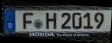character: (44, 11, 56, 30), (21, 11, 33, 29), (60, 11, 71, 29), (83, 11, 93, 29), (71, 12, 82, 28), (93, 11, 103, 28)
